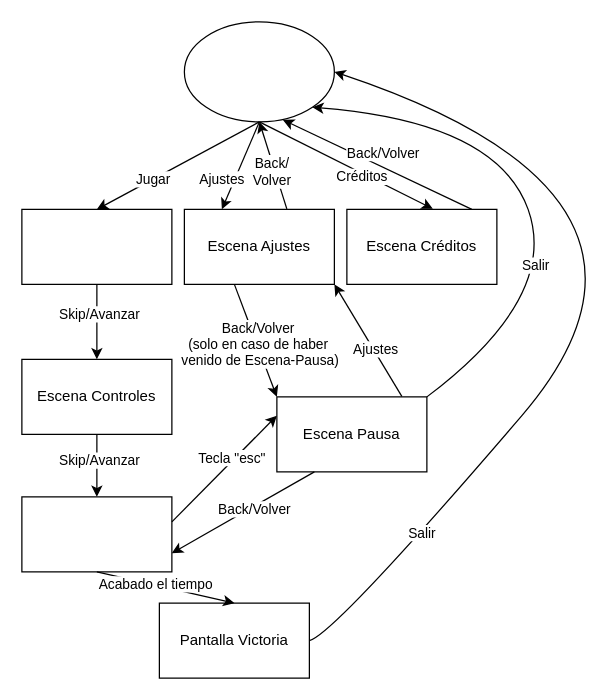
Some shapes in this 608 by 700 pixel diagram are drawn without their labels. The shapes that lost their labels are listed below. From the top down, each one's centre as x and y in pixels, then its label:
At (x=258, y=71): "Menú inicial".
At (x=96, y=246): "Escena Instrucciones".
At (x=96, y=534): "Escena Juego".
